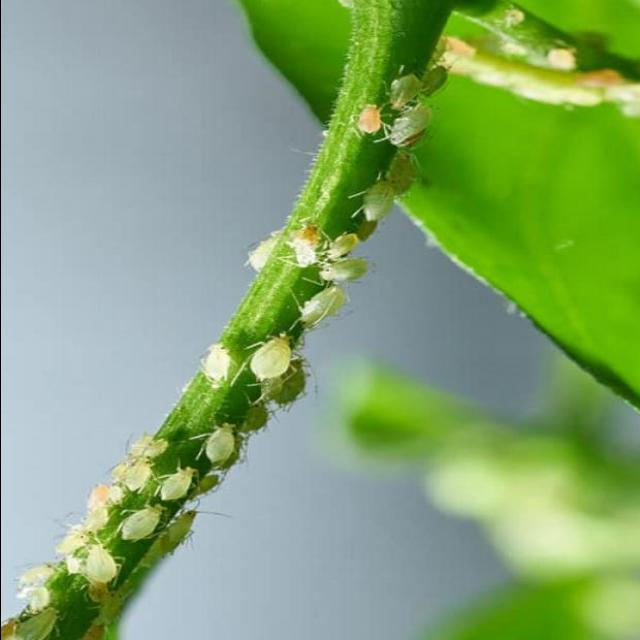Aphids: (0, 27, 456, 640)
